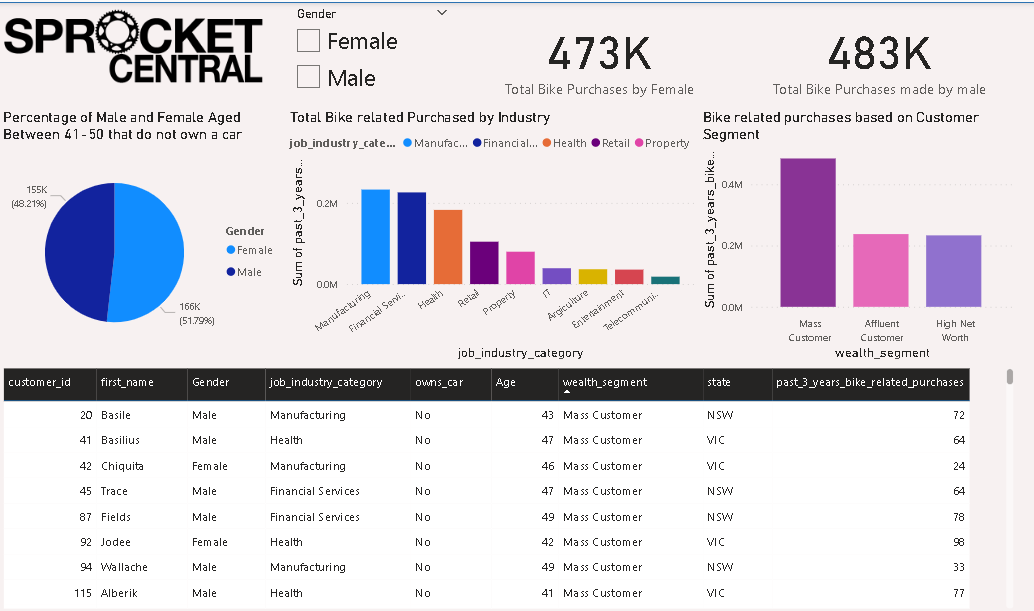

This screenshot's page, from the dashboard's own definition file:
{"tool":"powerbi","page":{"name":"Page 1","canvas":[1280,720],"ordinal":0},"visuals":[{"type":"shape","box":[0,0,1279.5,719.9],"z":0},{"type":"image","box":[0,0,324,126],"z":1000},{"type":"card","fields":{"Values":["Transaction.past_3_years_bike_related_purchases"]},"box":[541.7,0,333.3,126.7],"z":2000},{"type":"card","fields":{"Values":["Transaction.past_3_years_bike_related_purchases"]},"box":[875,0,326.7,126.7],"z":3000},{"type":"columnChart","title":"Bike related purchases based on Customer Segment","fields":{"Category":["Transaction.wealth_segment"],"Y":["Transaction.past_3_years_bike_related_purchases"]},"box":[825,126.7,376.7,300],"z":4000},{"type":"columnChart","title":"Total Bike related Purchased by Industry","fields":{"Category":["Transaction.job_industry_category"],"Y":["Transaction.past_3_years_bike_related_purchases"],"Series":["Transaction.job_industry_category"]},"box":[338.3,126.7,486.7,300],"z":5000},{"type":"pieChart","title":"Percentage of Male and Female Aged Between 41-50 that do not own a car","fields":{"Y":["Transaction.past_3_years_bike_related_purchases"],"Category":["Transaction.Gender"]},"box":[0,126.7,338.3,300],"z":6000},{"type":"tableEx","fields":{"Values":["Transaction.customer_id","CustomerDemographic.first_name","Transaction.Gender","Transaction.job_industry_category","Transaction.owns_car","Transaction.Age","CustomerDemographic.wealth_segment","Transaction.state","Transaction.past_3_years_bike_related_purchases"]},"box":[0,426.7,1201.7,293.3],"z":7000},{"type":"slicer","fields":{"Values":["CustomerDemographic.gender"]},"box":[338.7,0,202.9,124.3],"z":8000}]}

Visuals, with their boxes on the page's 1280x720 design canvas (x1, y1, x2, y2). These are canvas units, not pixel positions in the 1034x611 screenshot, which may show the page scaled, cropped or inside an application window:
shape: [left=0, top=0, right=1280, bottom=720]
image: [left=0, top=0, right=324, bottom=126]
card - Transaction.past_3_years_bike_related_purchases: [left=542, top=0, right=875, bottom=127]
card - Transaction.past_3_years_bike_related_purchases: [left=875, top=0, right=1202, bottom=127]
"Bike related purchases based on Customer Segment" columnChart: [left=825, top=127, right=1202, bottom=427]
"Total Bike related Purchased by Industry" columnChart: [left=338, top=127, right=825, bottom=427]
"Percentage of Male and Female Aged Between 41-50 that do not own a car" pieChart: [left=0, top=127, right=338, bottom=427]
tableEx - Transaction.customer_id x CustomerDemographic.first_name: [left=0, top=427, right=1202, bottom=720]
slicer - CustomerDemographic.gender: [left=339, top=0, right=542, bottom=124]
